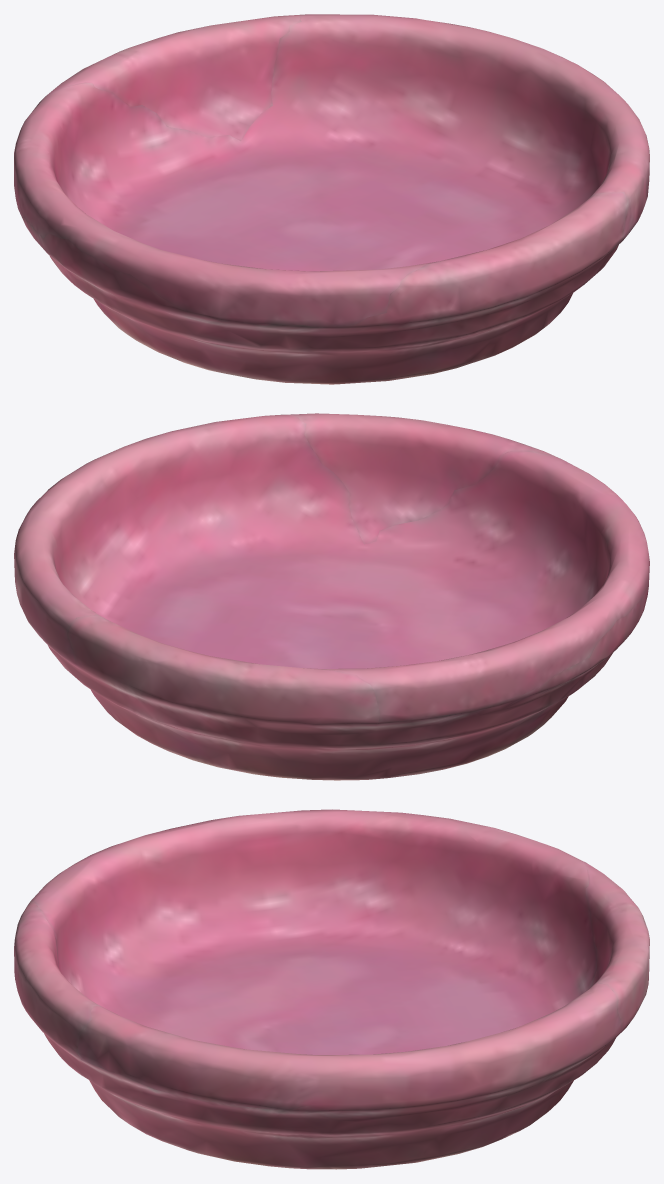
The model's file is Cole_Hardware_Saucer_Electric-high.glb.
3 renders of one model, top to bottom at view 1: azimuth 30°, elevation 25°; view 2: azimuth 150°, elevation 25°; view 3: azimuth 270°, elevation 25°, orthographic.
Parts seen in each view (by area): view 1: Cole_Hardware_Saucer_Electric; view 2: Cole_Hardware_Saucer_Electric; view 3: Cole_Hardware_Saucer_Electric.
Part boxes in pixels (x1,y1,x2,y2): Cole_Hardware_Saucer_Electric: (14, 14, 649, 384); Cole_Hardware_Saucer_Electric: (14, 413, 649, 780); Cole_Hardware_Saucer_Electric: (14, 809, 649, 1169).
Bounding box in the file's own units: 0.1242 × 0.0316 × 0.1241.
Materials: 1 (1 with a texture image).
